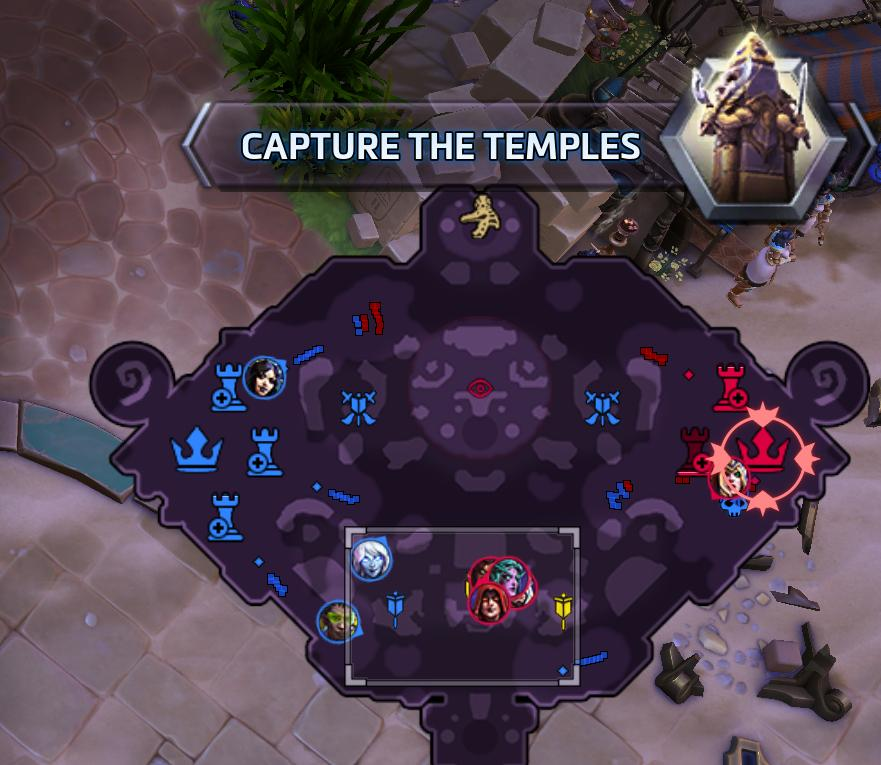blue nexus: (168, 422, 225, 473)
blue player: (242, 355, 286, 399), (316, 600, 360, 643), (351, 537, 391, 581)
blue tower: (205, 491, 244, 542), (245, 425, 284, 476), (209, 361, 248, 412)
red player: (487, 557, 534, 607), (468, 580, 508, 625), (466, 556, 502, 600), (717, 456, 751, 498), (508, 569, 536, 608), (493, 561, 521, 594), (693, 445, 722, 476), (708, 467, 735, 500), (721, 464, 744, 494)
red tower: (712, 363, 749, 413)
